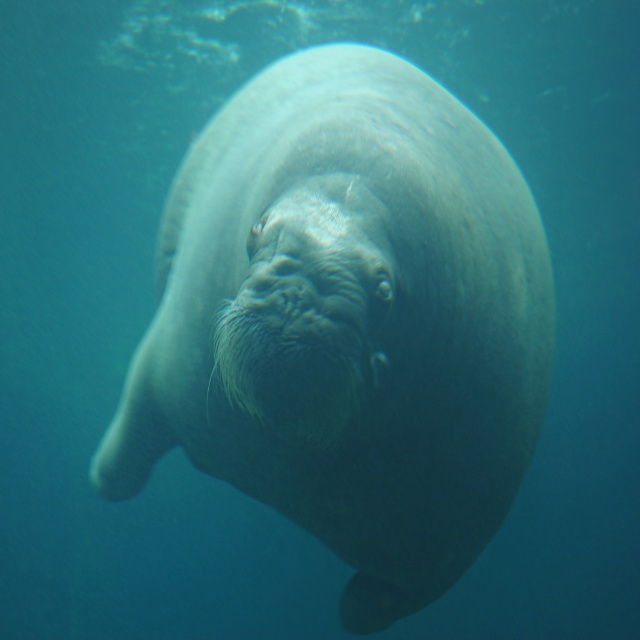Harbor seal: (88, 41, 556, 637)
